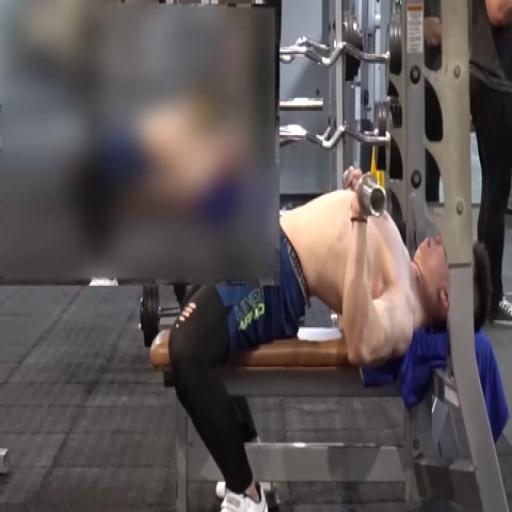exercise: (150, 164, 506, 510)
